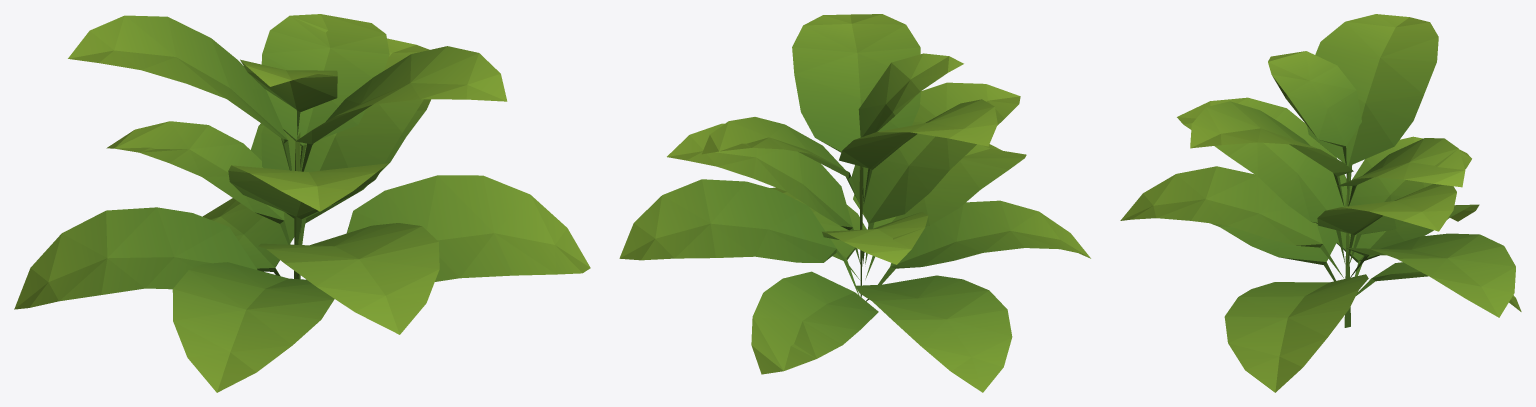
Rendered from Mesh_Nature_Plant_02.FBX.
The picture shows the model from 3 angles, left to right: view 1: azimuth 30°, elevation 25°; view 2: azimuth 150°, elevation 25°; view 3: azimuth 270°, elevation 25°; orthographic projection. The views are drawn at different scales.
Visible parts, largest first — view 1: Mesh_Nature_Plant_02; view 2: Mesh_Nature_Plant_02; view 3: Mesh_Nature_Plant_02.
Boxes of the visible parts, x1,y1,x2,y2 form: Mesh_Nature_Plant_02: (14,14,590,392); Mesh_Nature_Plant_02: (619,14,1090,392); Mesh_Nature_Plant_02: (1120,14,1521,392).
Size of what is drawn, in the model's own units: 106 by 98.12 by 66.34.
